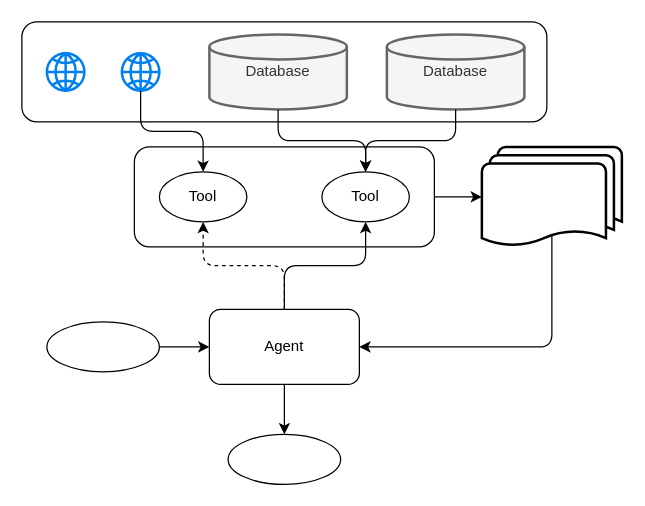
Some shapes in this 645 by 506 pixel diagram are drawn without their labels. The shapes that lost their labels are listed below. From the top down, each one's centre as x and y in pixels, then its label:
At point (551, 196): "Retreived Documents".
At point (102, 346): "Question".
At point (284, 458): "Answer".
